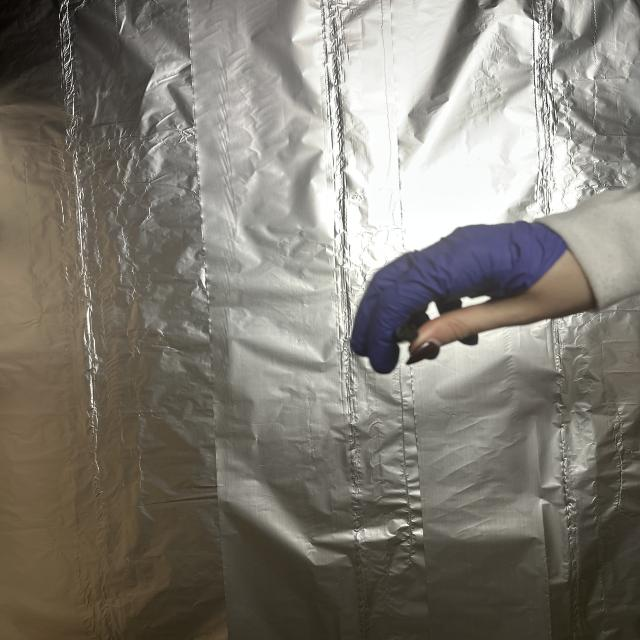glove_partial: (348, 218, 593, 373)
